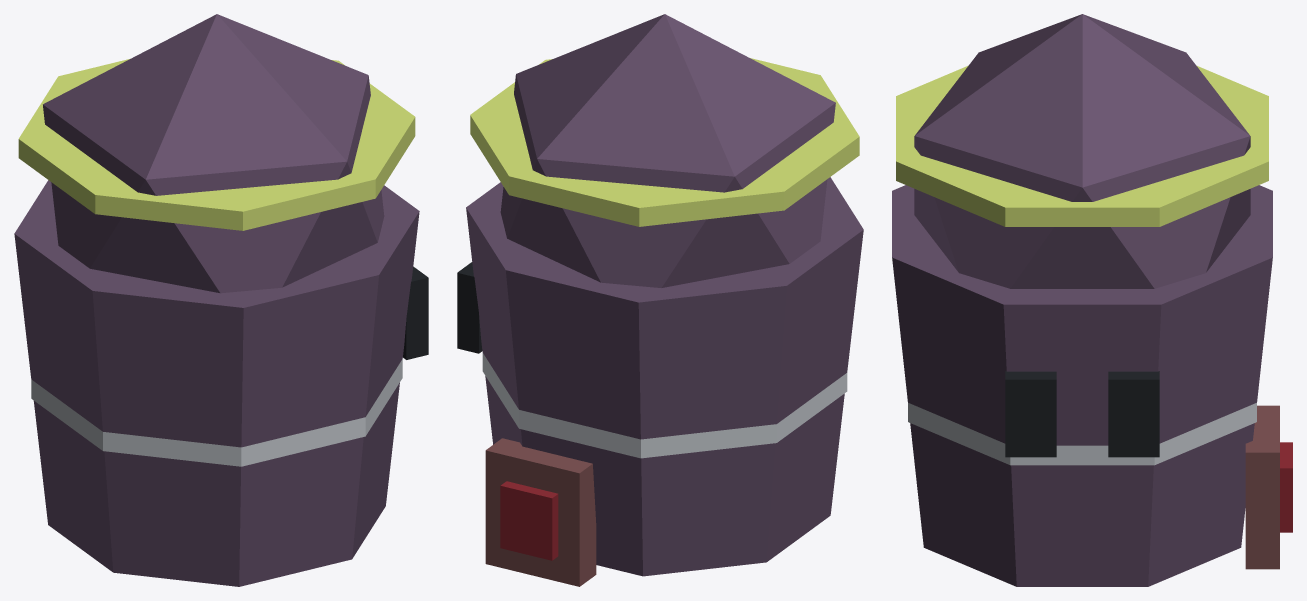
File: inf_warden_upper_arm_r.fbx
3 views of the same model, side by side, from view 1: azimuth 30°, elevation 25°; view 2: azimuth 150°, elevation 25°; view 3: azimuth 270°, elevation 25° (orthographic). The views are drawn at different scales.
Parts seen in each view (by area): view 1: inf_warden_upper_arm_r; view 2: inf_warden_upper_arm_r; view 3: inf_warden_upper_arm_r.
Part boxes in pixels (x1=…): inf_warden_upper_arm_r: x1=14, y1=14, x2=428, y2=586; inf_warden_upper_arm_r: x1=457, y1=14, x2=863, y2=586; inf_warden_upper_arm_r: x1=892, y1=14, x2=1292, y2=586.
Bounding box in the file's own units: 91.35 × 132 × 93.35.
